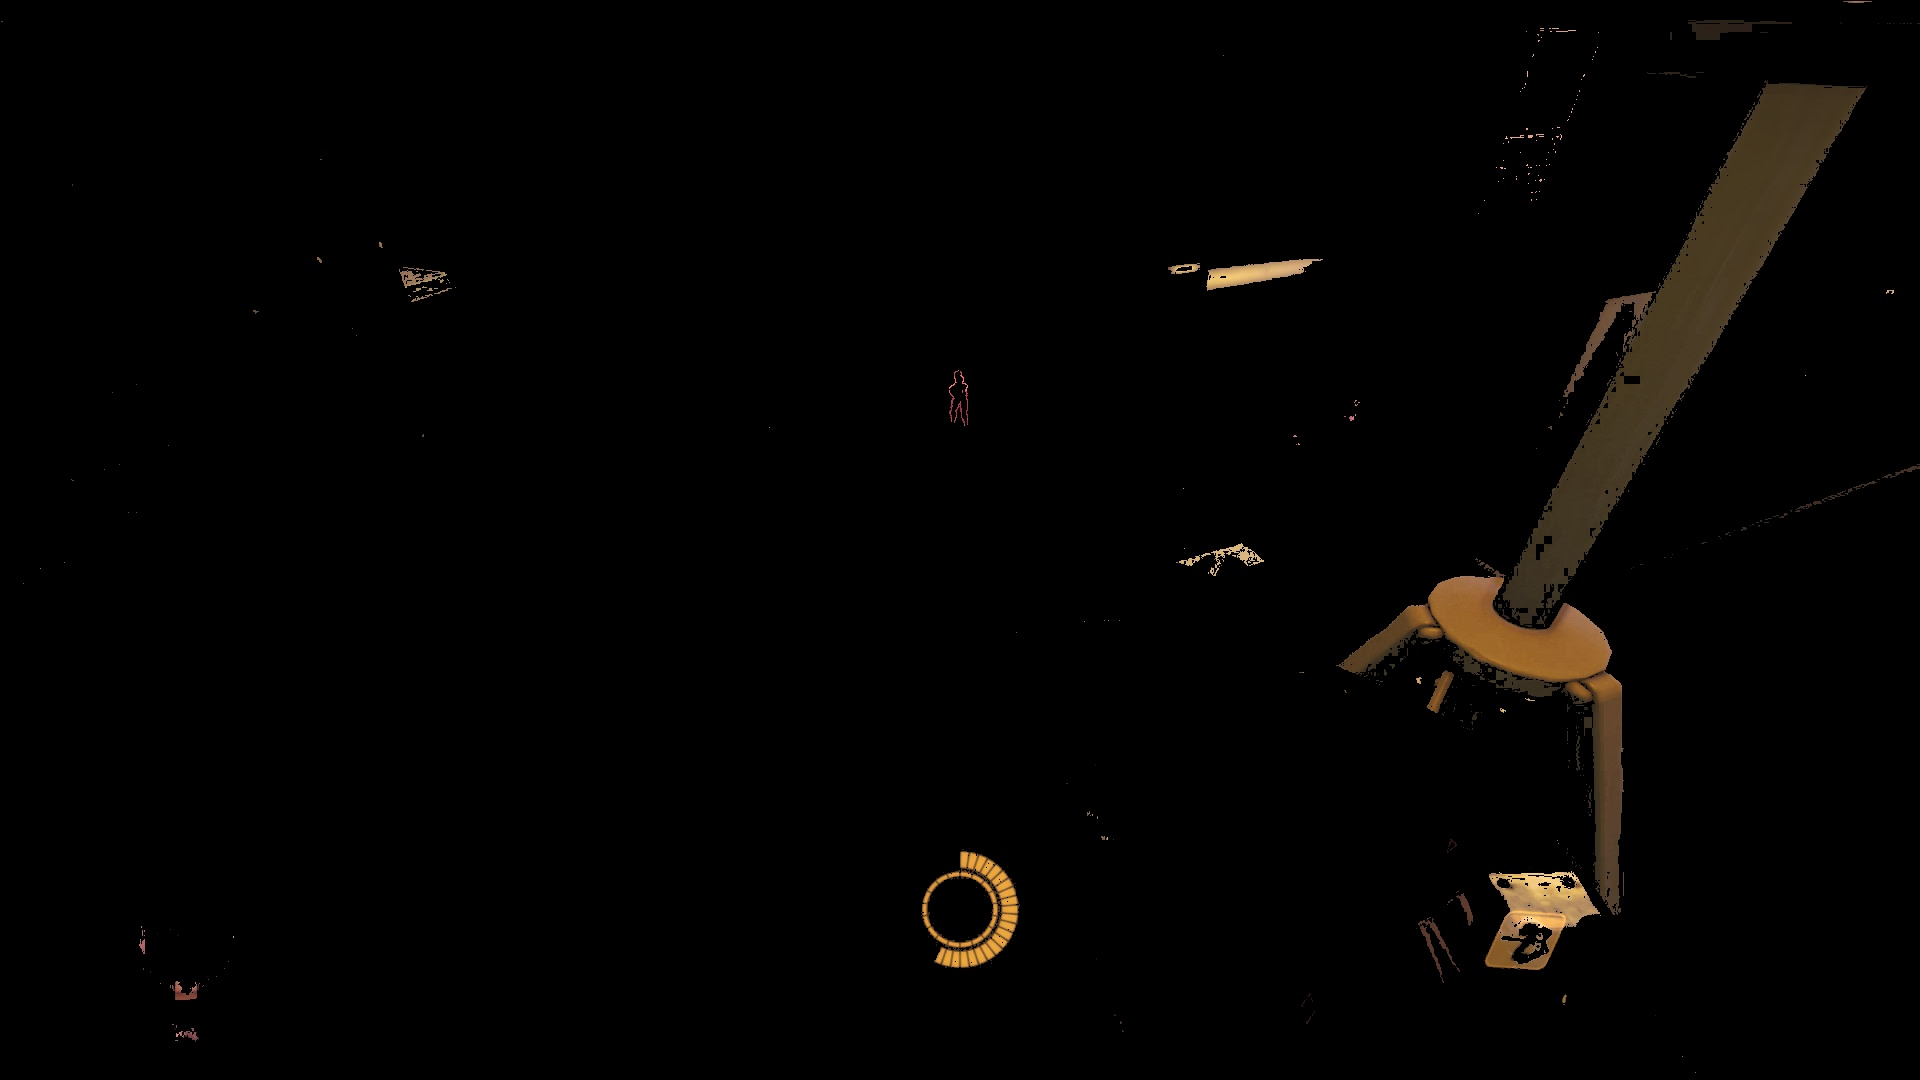widowmaker: (948, 371, 971, 434)
